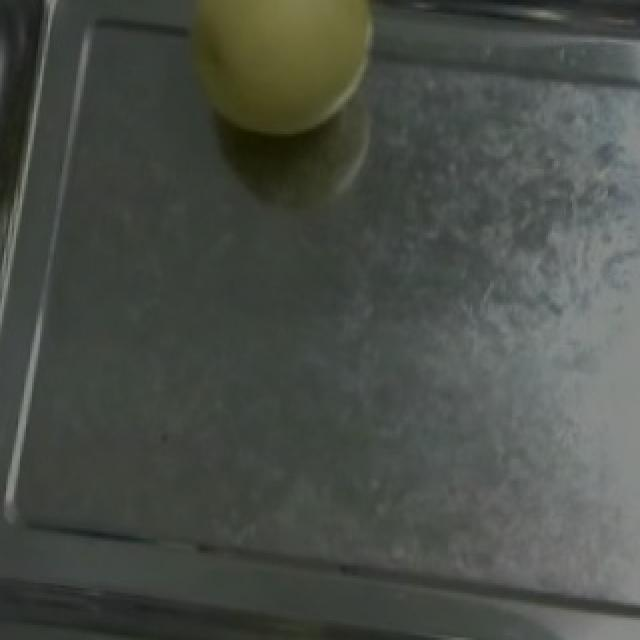Fruit: (158, 0, 394, 156)
